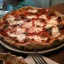pizza: (1, 6, 64, 51)
